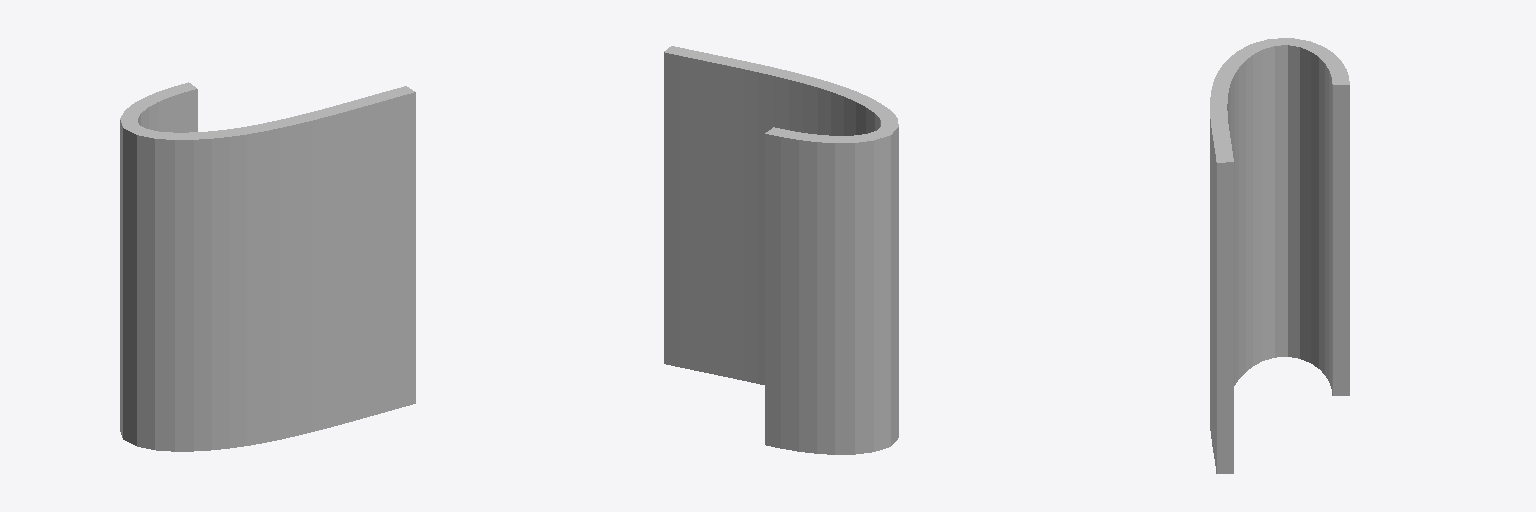
The model's file is SimpleFold2.obj.
The picture shows the model from 3 angles: view 1: azimuth 30°, elevation 25°; view 2: azimuth 150°, elevation 25°; view 3: azimuth 270°, elevation 25°; orthographic projection.
Parts seen in each view (by area): view 1: Cube; view 2: Cube; view 3: Cube.
Boxes of the visible parts, box(x1,y1,x2,y2) form: Cube: box(120, 82, 415, 451); Cube: box(664, 46, 898, 454); Cube: box(1210, 38, 1349, 473).
Bounding box in the file's own units: 4.16 × 4.84 × 1.97.